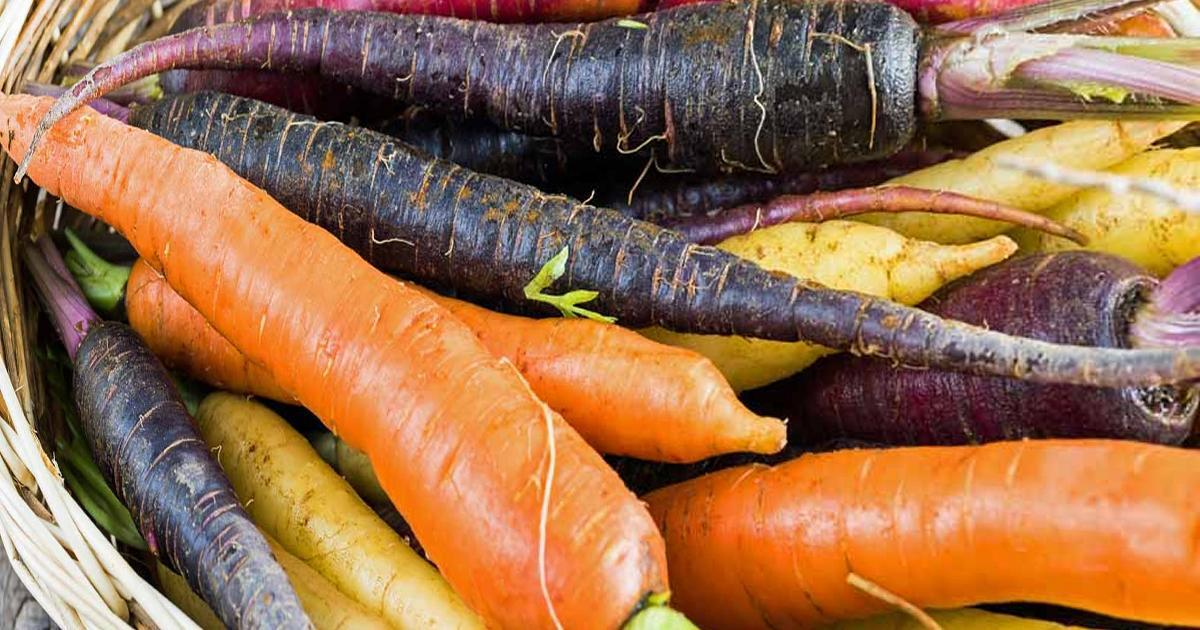carrot: (25, 102, 726, 630), (158, 245, 788, 480), (623, 439, 1200, 630)
